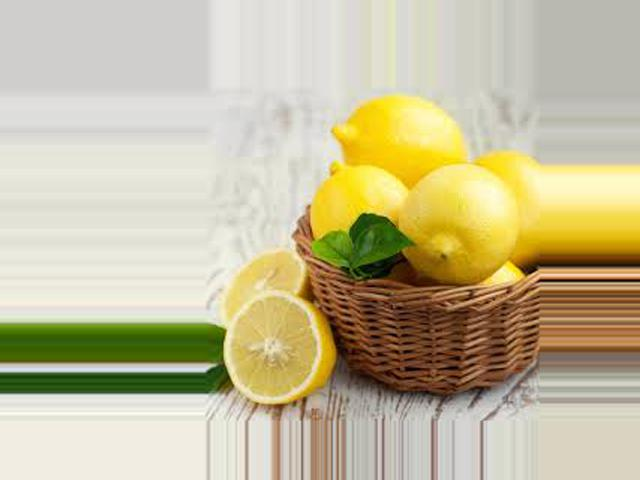lemon: (301, 158, 421, 272)
